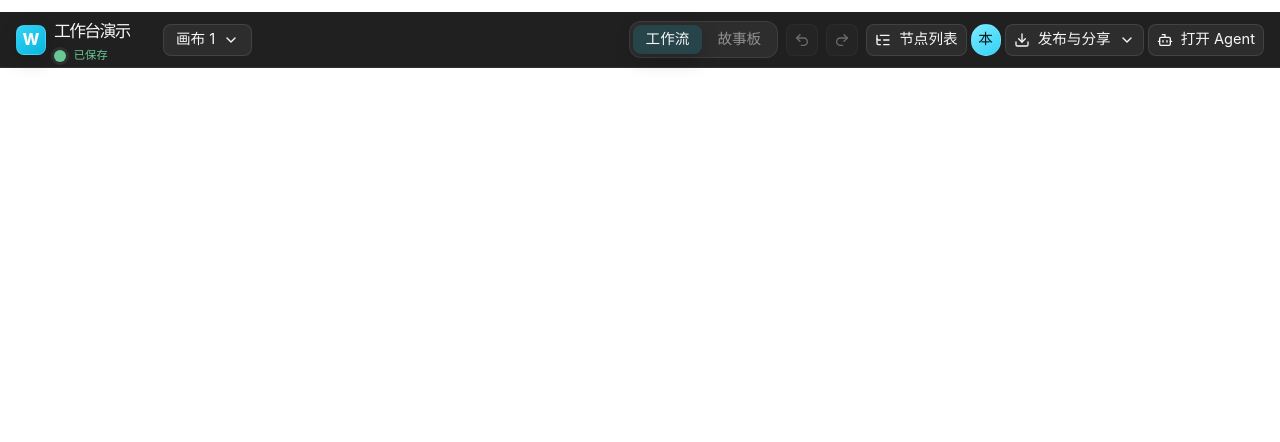
Test case: closes the publish menu on Escape or outside interaction and restores focus
Click the button "发布与分享" at [1074, 40], box x1=1005 y1=24 x2=1144 y2=56
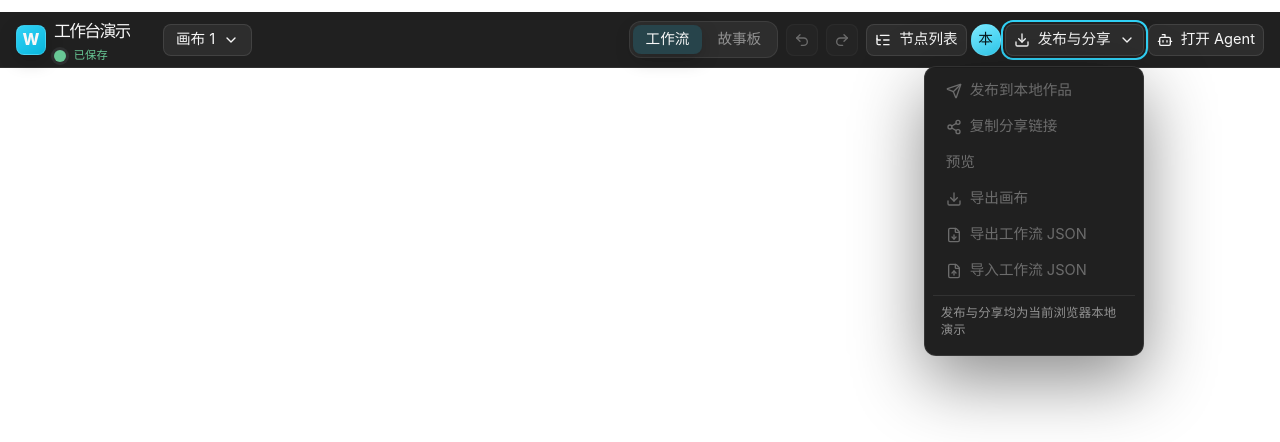
Press Escape
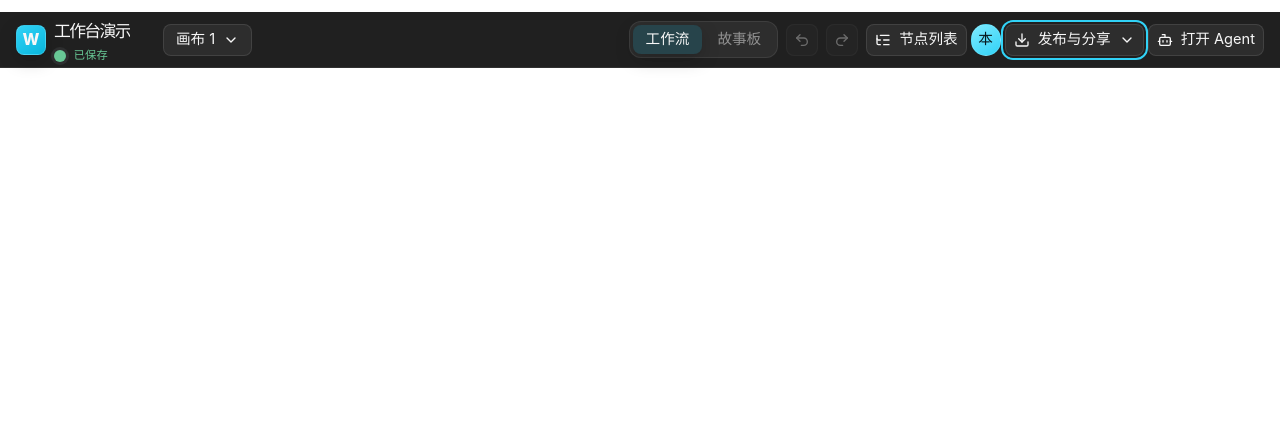
Now the menu "发布与分享菜单" is gone
Click the button "发布与分享" at [1074, 40], box x1=1005 y1=24 x2=1144 y2=56
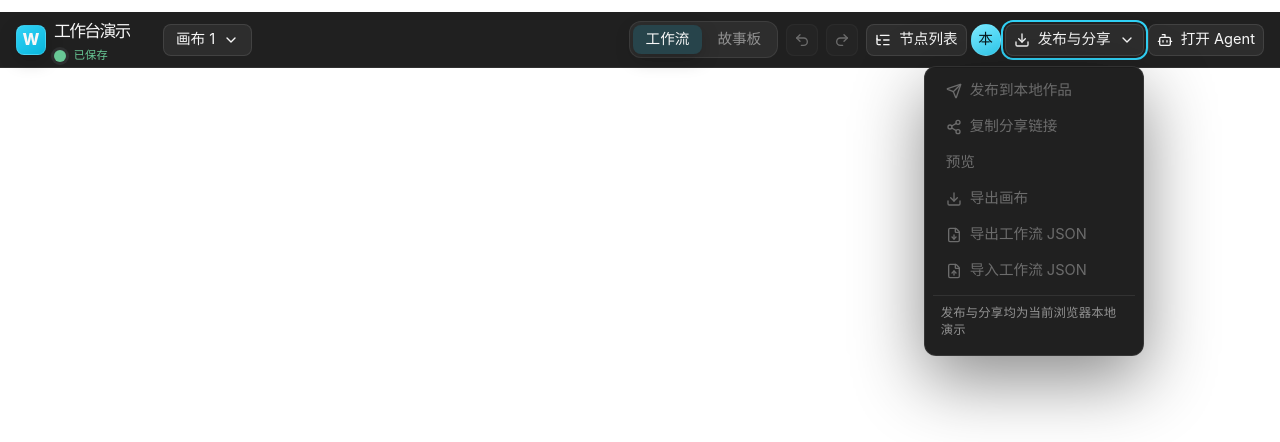
Click the button "打开 Agent" at [1206, 40], box x1=1148 y1=24 x2=1264 y2=56
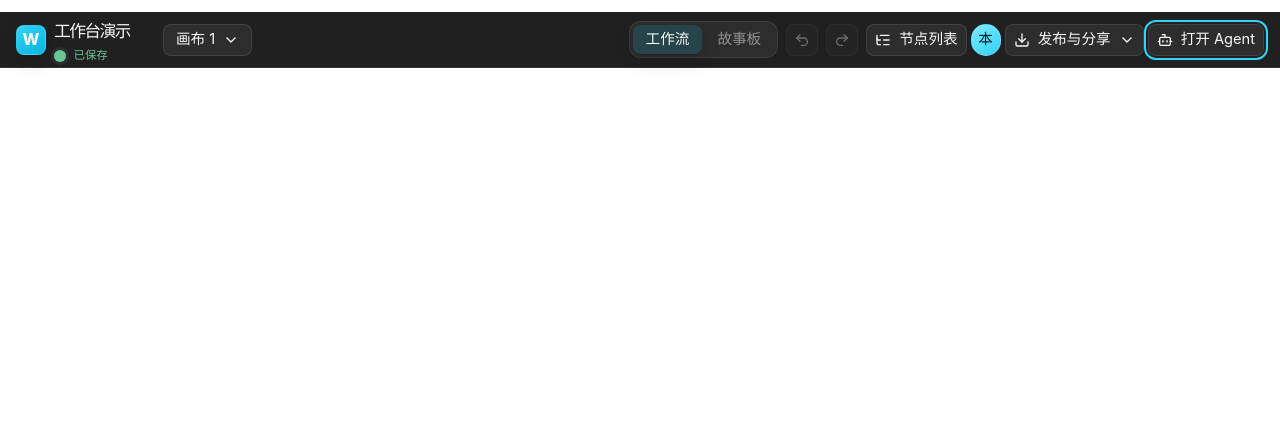
Now the menu "发布与分享菜单" is gone
